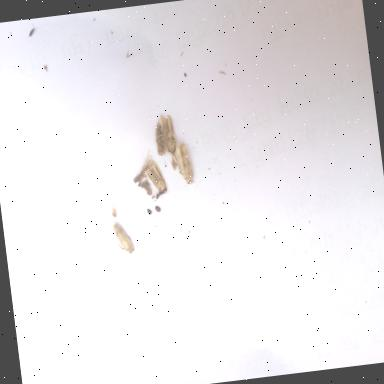pbw: (166, 140, 194, 186), (110, 222, 135, 258), (144, 160, 168, 196), (152, 114, 168, 156), (162, 113, 178, 154)
